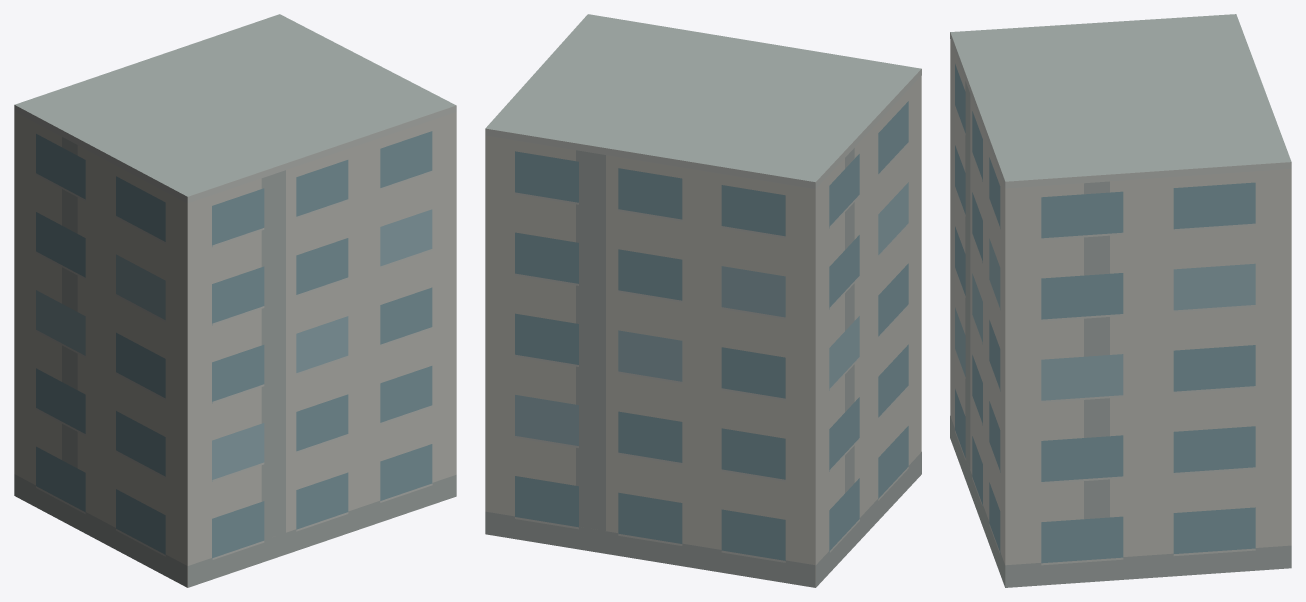
Rendered from survey-upis-32987659.glb.
3 renders of one model, left to right at view 1: azimuth 30°, elevation 25°; view 2: azimuth 150°, elevation 25°; view 3: azimuth 270°, elevation 25°, orthographic. The views are drawn at different scales.
Parts seen in each view (by area): view 1: survey-upis-32987659.tmp; view 2: survey-upis-32987659.tmp; view 3: survey-upis-32987659.tmp.
Boxes of the visible parts, box(x1,y1,x2,y2) form: survey-upis-32987659.tmp: box(14, 14, 456, 587); survey-upis-32987659.tmp: box(485, 14, 921, 587); survey-upis-32987659.tmp: box(950, 14, 1291, 587).
Bounding box in the file's own units: 12.63 × 14.25 × 10.86.
